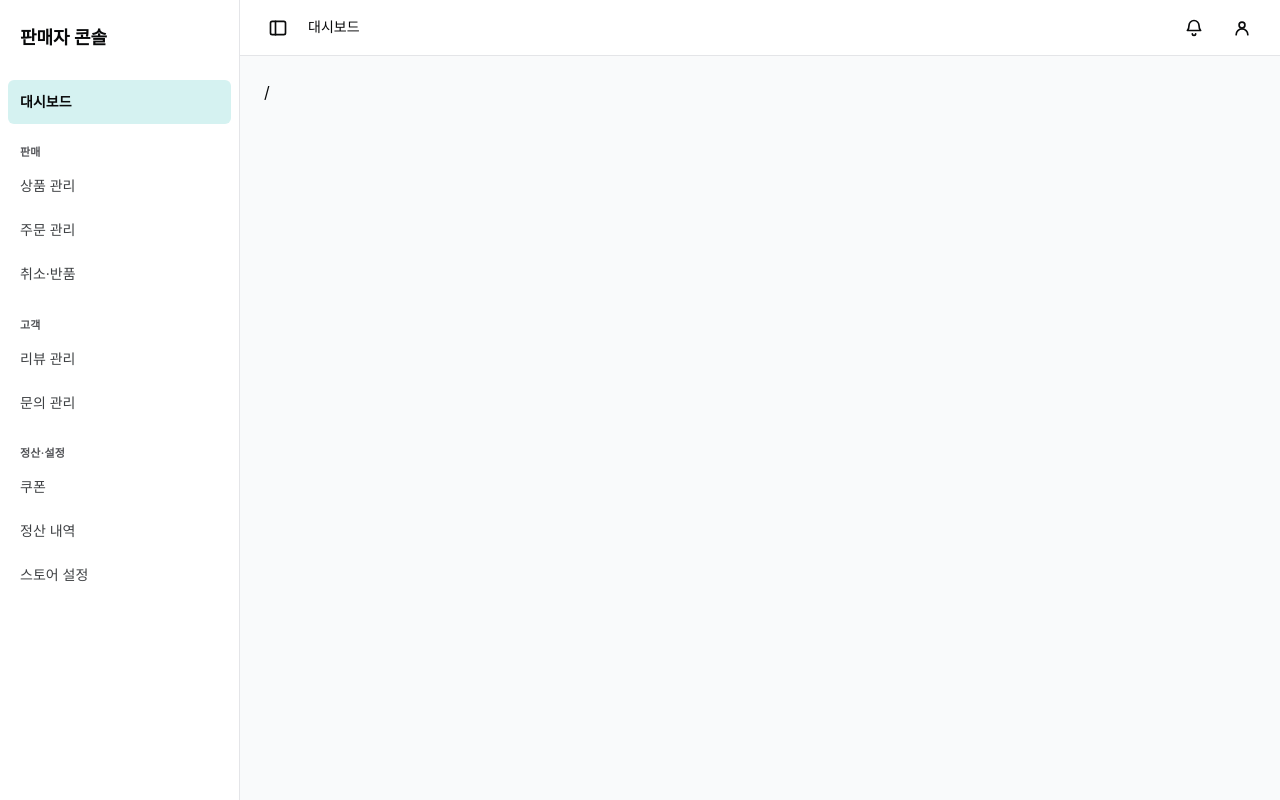
Scenario: the notification slot › holds a real notification control now, not a "M11 fills this" popover
Click the button named "알림". click: [1194, 28]
box: [1172, 6, 1216, 50]
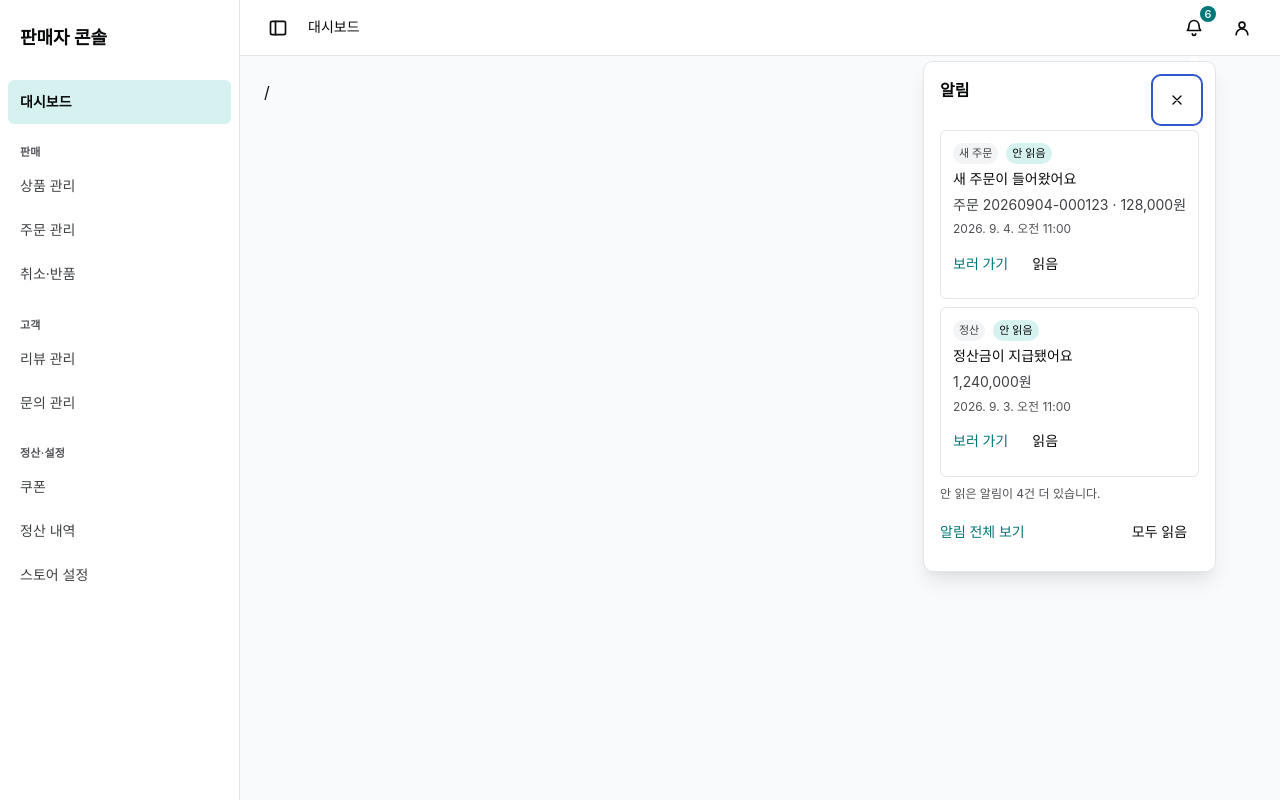
Expected: the link "알림 전체 보기" is shown, [940, 521, 1025, 544]
